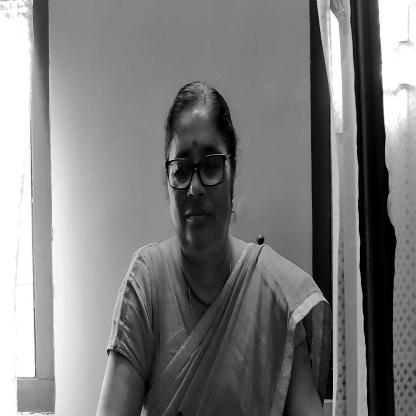Normal: (155, 69, 239, 269)
